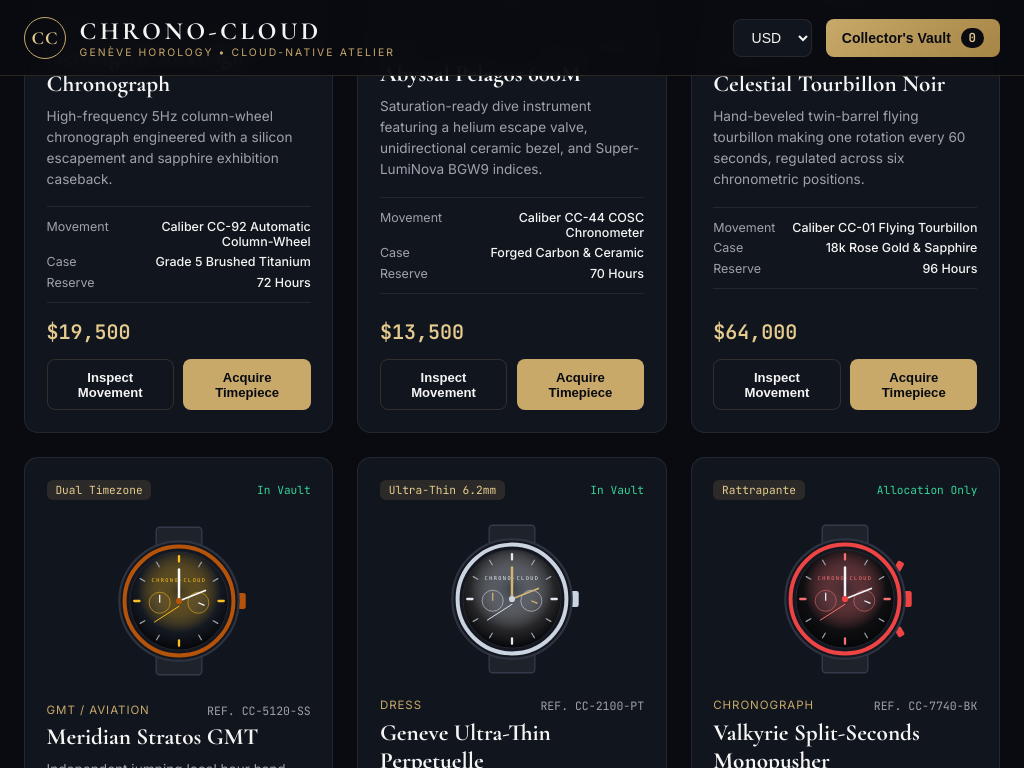
Test case: Chrono-Cloud Storefront › adds a timepiece to the Collector Vault and updates badge and subtotal
This screenshot has width=1024, height=768.
(page scrolled)
Click the button "Acquire Timepiece" below "$19,500" at (247, 384), box top-left (184, 359), bottom-right (311, 410)
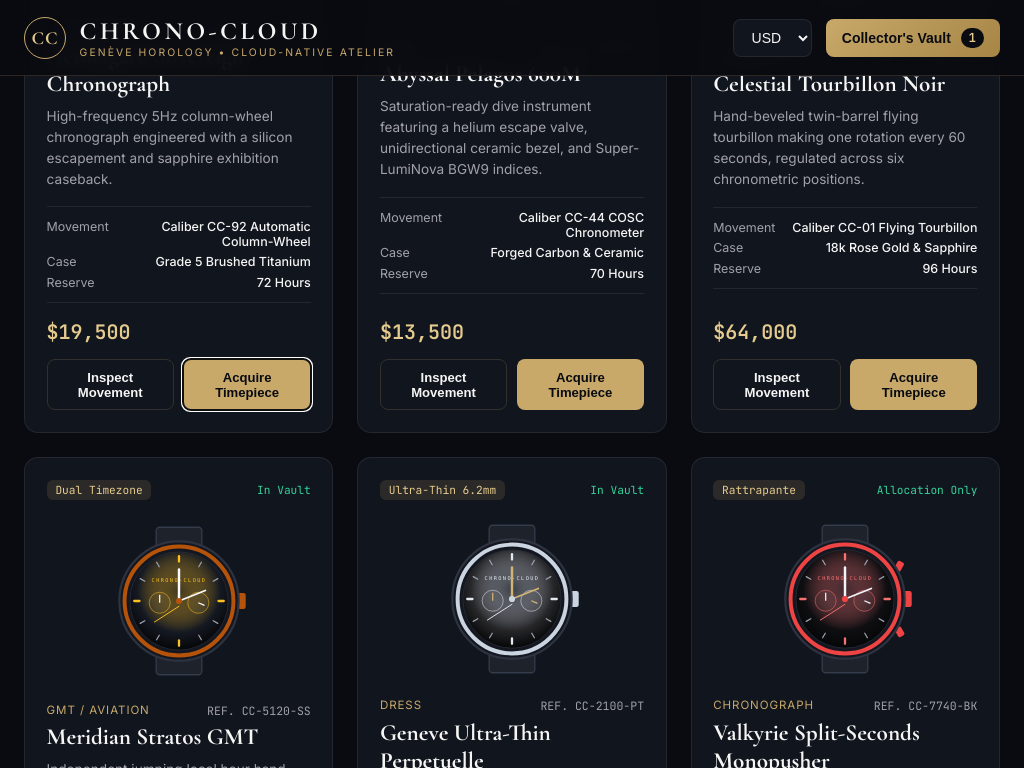
Expected: the text with test id "vault-count" reads "1", top-left (968, 29), bottom-right (976, 46)
Click the button with test id "vault-button" at (913, 37), box top-left (826, 18), bottom-right (1000, 57)
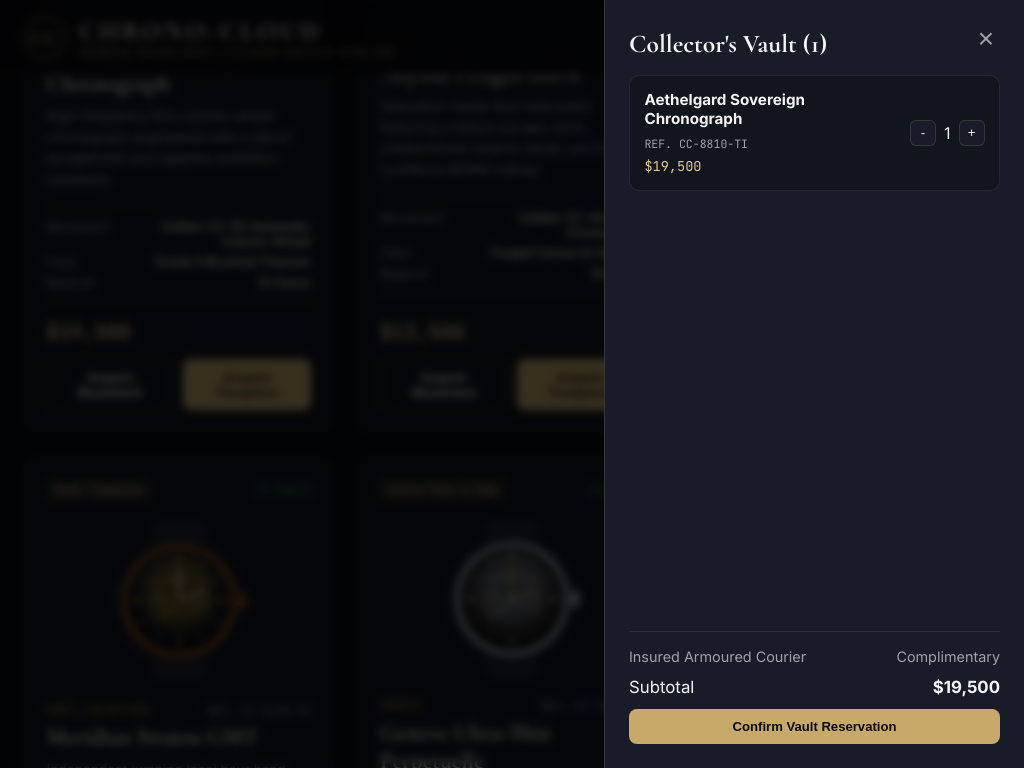
Expected: the heading "Aethelgard Sovereign Chronograph" is shown, top-left (644, 90), bottom-right (805, 128)
Expected: the text with test id "vault-subtotal" reads "$19,500", top-left (933, 677), bottom-right (1000, 697)
